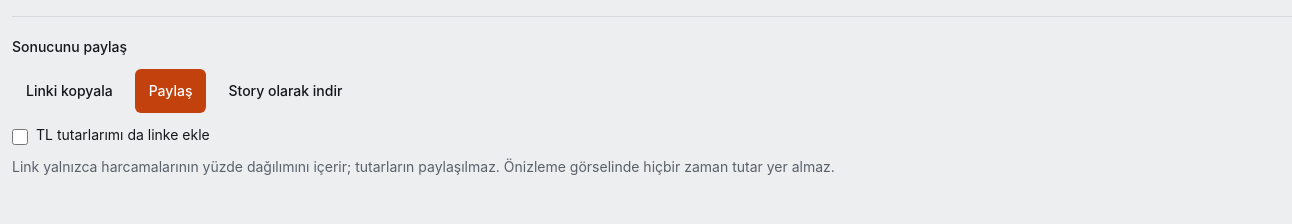
Test: ShareActions › varsayılan olarak tutarsız link kopyalar ve bunu söyler
expect the checkbox labelled "TL tutarlarımı da linke ekle" is not checked: met, box [12,129,28,145]
expect the text "tutarların paylaşılmaz" is shown: met, box [12,158,835,175]
Click the button "Linki kopyala" at (69, 91), box [12,69,127,113]
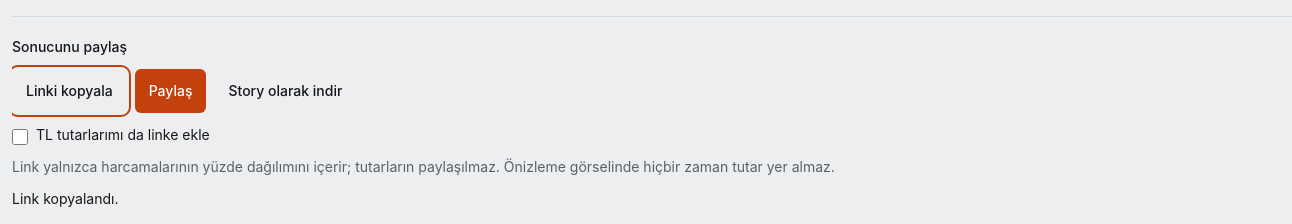
expect the message reads "Link kopyalandı.": met, box [12,190,118,207]
